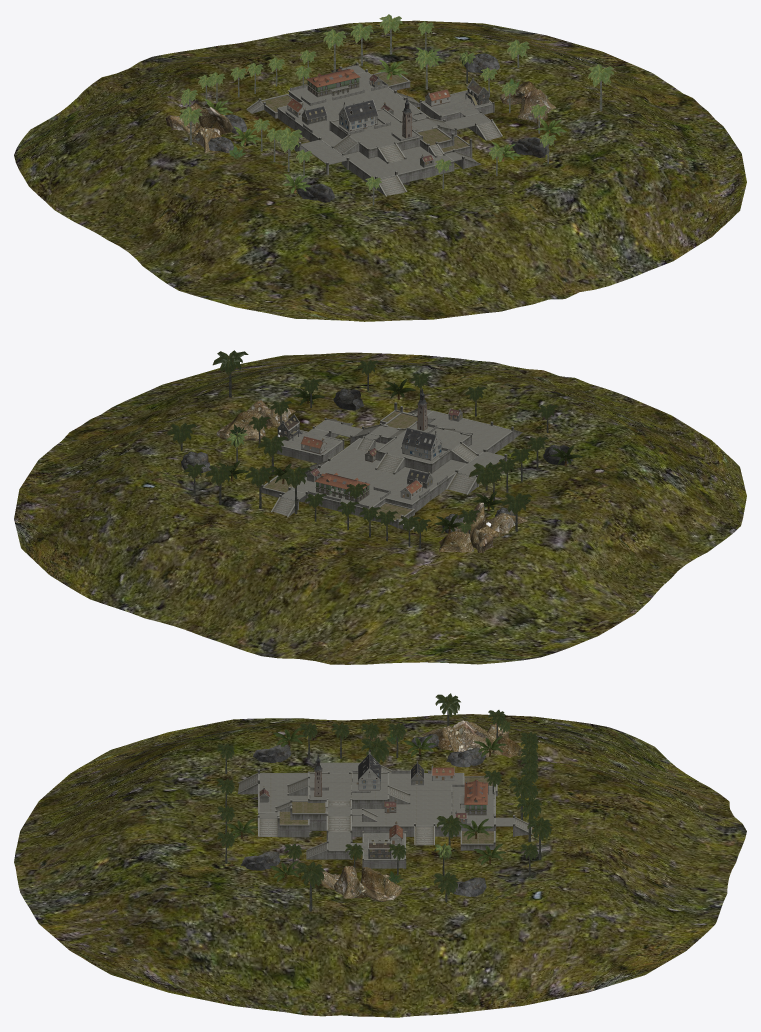
File: free_fire_clocktower_freefire-transformed.glb
3 views of the same model, one above another, from view 1: azimuth 30°, elevation 25°; view 2: azimuth 150°, elevation 25°; view 3: azimuth 270°, elevation 25° (orthographic). The views are drawn at different scales.
Parts seen in each view (by area): view 1: Plane_37, Base_02_LOD0_0_0, mansion_LOD0_2_3, Cube.001_39, mansion_LOD0_3_4, Mesh_0014.rip.003_71, Cube.004_42, Mesh_0014.rip.004_72; view 2: Plane_37, Base_02_LOD0_0_0, Cube.005_43, Cube_38, Mesh_0004.rip.021_81, Mesh_0014.rip.003_71; view 3: Plane_37, Base_02_LOD0_0_0, Cube.001_39, Cube.005_43, Cube.004_42, Mesh_0004.rip.021_81, mansion_LOD0_2_3, Mesh_0014.rip.001_69, Mesh_0014.rip.003_71.
Boxes of the visible parts, x1=… form: Plane_37: x1=14, y1=20, x2=746, y2=321; Base_02_LOD0_0_0: x1=246, y1=62, x2=502, y2=196; mansion_LOD0_2_3: x1=306, y1=68, x2=360, y2=95; Cube.001_39: x1=198, y1=107, x2=232, y2=134; mansion_LOD0_3_4: x1=307, y1=68, x2=359, y2=97; Mesh_0014.rip.003_71: x1=511, y1=137, x2=549, y2=157; Cube.004_42: x1=519, y1=89, x2=556, y2=114; Mesh_0014.rip.004_72: x1=297, y1=184, x2=334, y2=202; Plane_37: x1=14, y1=352, x2=746, y2=664; Base_02_LOD0_0_0: x1=261, y1=402, x2=523, y2=531; Cube.005_43: x1=216, y1=411, x2=265, y2=440; Cube_38: x1=438, y1=531, x2=474, y2=552; Mesh_0004.rip.021_81: x1=212, y1=350, x2=248, y2=397; Mesh_0014.rip.003_71: x1=333, y1=388, x2=363, y2=410; Plane_37: x1=14, y1=714, x2=746, y2=1017; Base_02_LOD0_0_0: x1=237, y1=760, x2=533, y2=868; Cube.001_39: x1=448, y1=720, x2=493, y2=757; Cube.005_43: x1=360, y1=867, x2=401, y2=901; Cube.004_42: x1=334, y1=866, x2=367, y2=898; Mesh_0004.rip.021_81: x1=296, y1=861, x2=325, y2=911; mansion_LOD0_2_3: x1=460, y1=779, x2=487, y2=808; Mesh_0014.rip.001_69: x1=446, y1=747, x2=485, y2=767; Mesh_0014.rip.003_71: x1=240, y1=851, x2=280, y2=870.
Size of the model in its own units: 273 by 45.38 by 280.
Materials: 41 (39 with a texture image).
